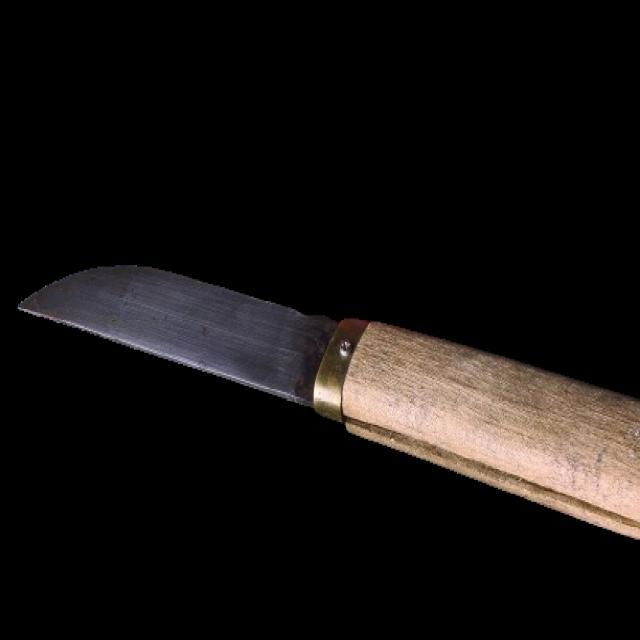knife: (19, 257, 639, 544)
